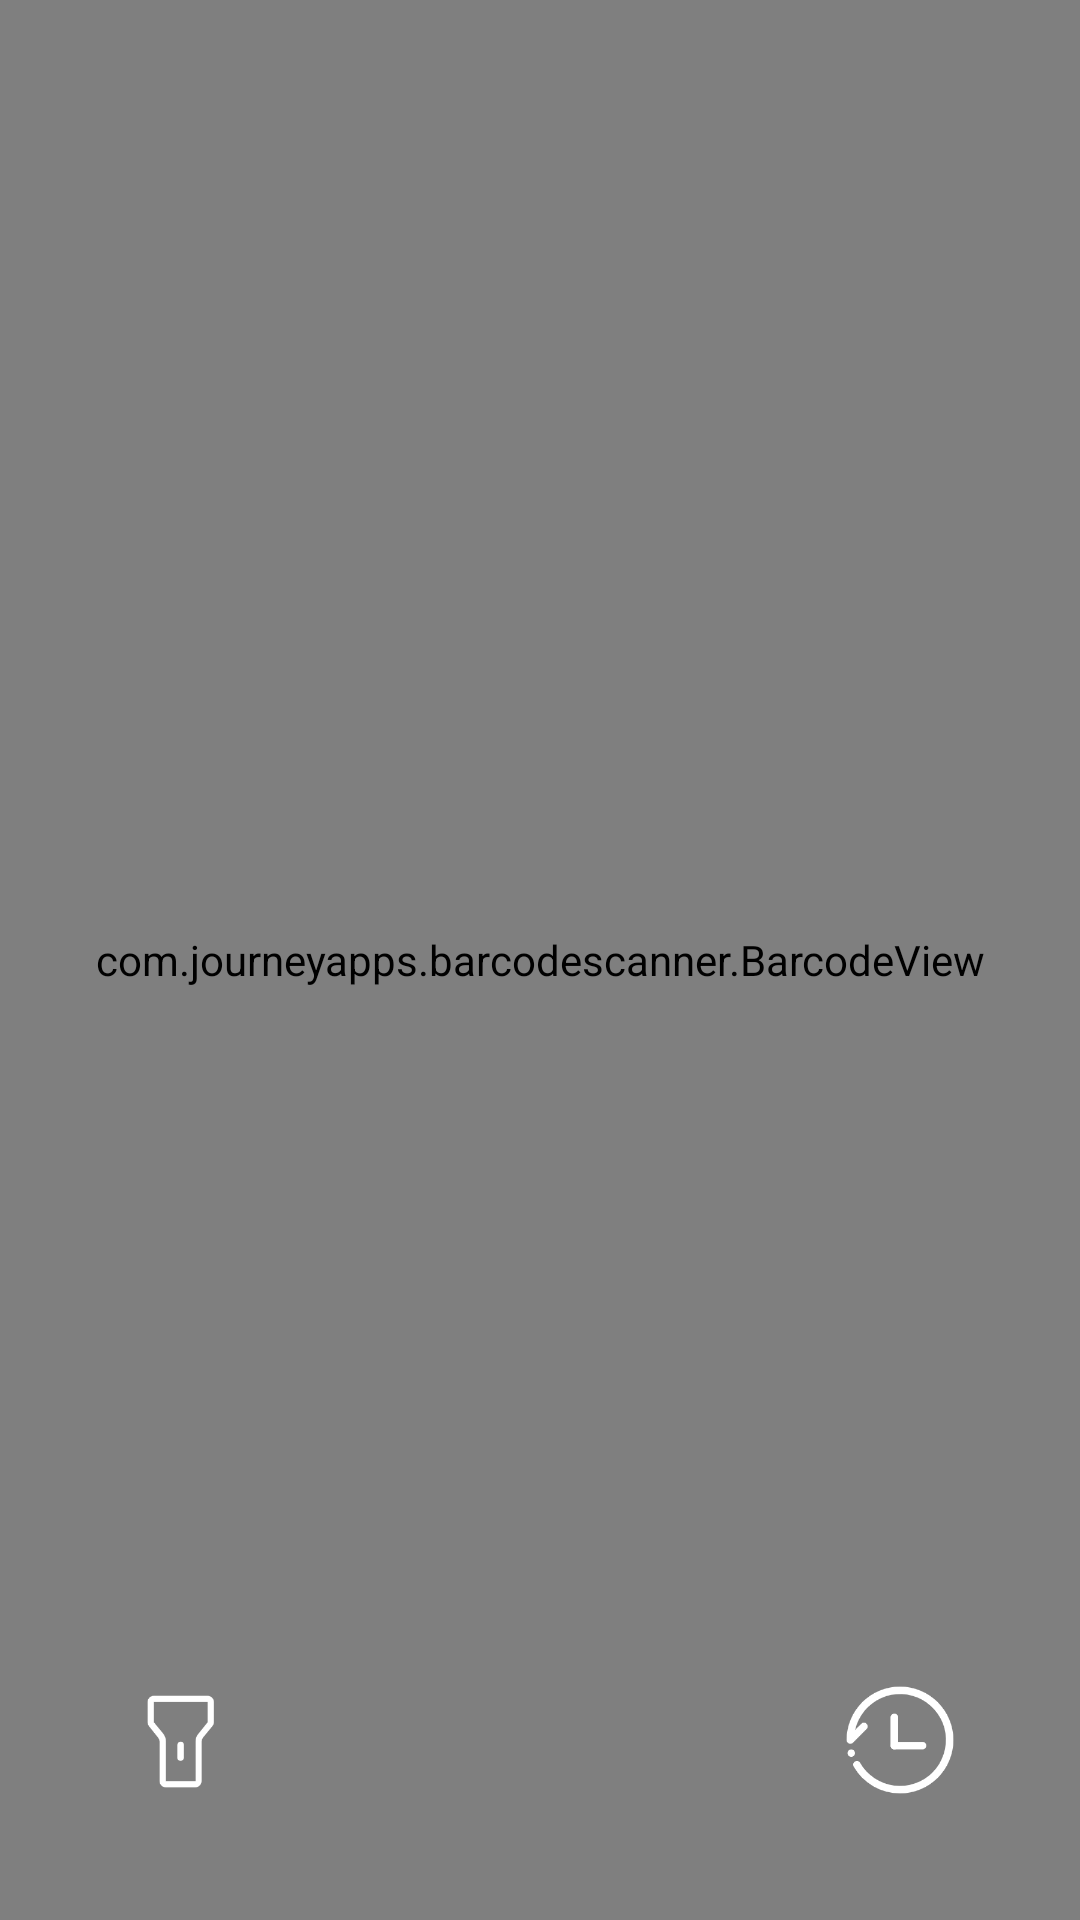

Screen size 1080px x 1920px. Icon name, then its box in pixels as (x1, y1, x2, y2):
flash: (147, 1695, 214, 1788)
history: (846, 1686, 954, 1794)
